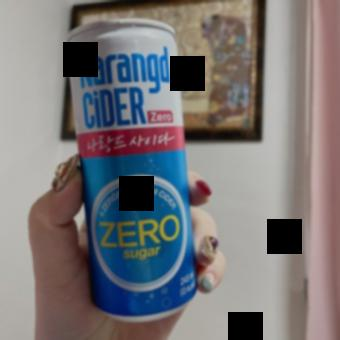narangdcider: (63, 14, 200, 325)
